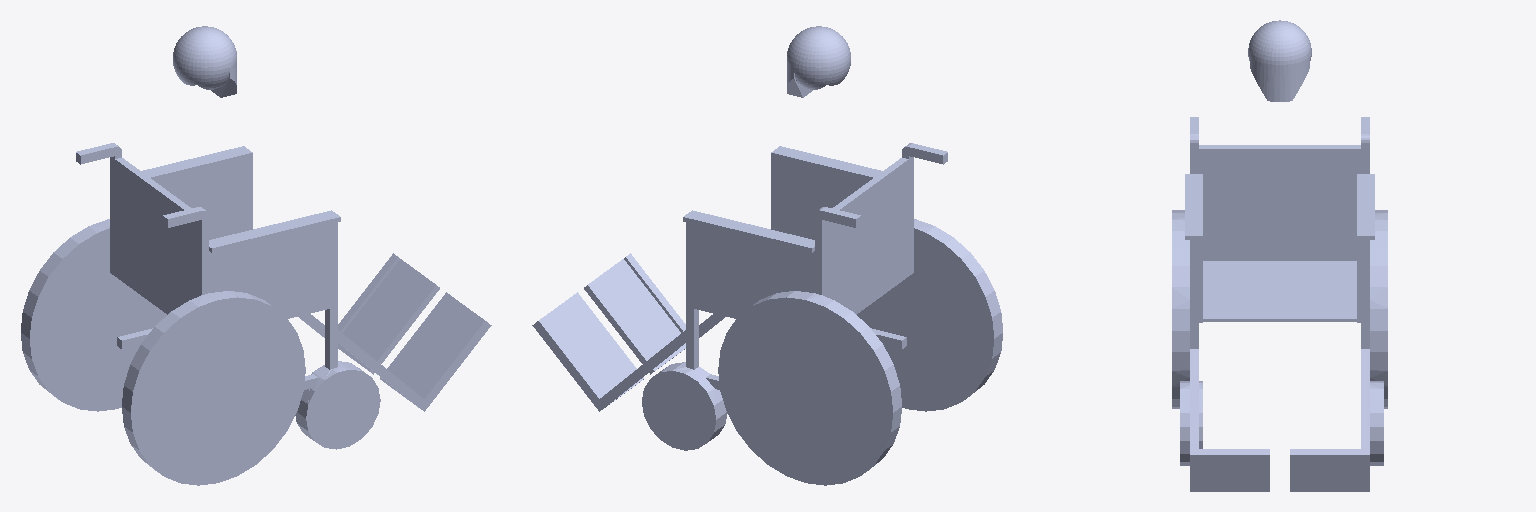
robot.urdf — wheelchair_and_body_assembly:
<robot
  name="wheelchair_and_body_assembly">
  <link
    name="base_link">
    <inertial>
      <origin
        xyz="0.46024 0.0005839 0.36704"
        rpy="0 0 0" />
      <mass
        value="63.649" />
      <inertia
        ixx="7.6415"
        ixy="0.010955"
        ixz="-0.8336"
        iyy="7.458"
        iyz="-0.0088095"
        izz="9.3029" />
    </inertial>
    <visual>
      <origin
        xyz="0 0 0"
        rpy="0 0 0" />
      <geometry>
        <mesh
          filename="package://hrl_base_selection/urdf/wheelchair_and_body_assembly/meshes/base_link.STL" />
      </geometry>
      <material
        name="">
        <color
          rgba="0.79216 0.81961 0.93333 1" />
      </material>
    </visual>
    <collision>
      <origin
        xyz="0 0 0"
        rpy="0 0 0" />
      <geometry>
        <mesh
          filename="package://hrl_base_selection/urdf/wheelchair_and_body_assembly/meshes/base_link.STL" />
      </geometry>
    </collision>
  </link>
  <link
    name="body_th_move_link">
    <inertial>
      <origin
        xyz="0.18305 -1.2796E-06 0.23201"
        rpy="0 0 0" />
      <mass
        value="55.001" />
      <inertia
        ixx="3.0819"
        ixy="5.9955E-06"
        ixz="-1.705"
        iyy="5.2603"
        iyz="-1.2806E-05"
        izz="3.7779" />
    </inertial>
  </link>
  <joint
    name="wheelchair_body_rotation_joint"
    type="revolute">
    <origin
      xyz="0.40278 0 0.47"
      rpy="0 0 0" />
    <parent
      link="base_link" />
    <child
      link="body_th_move_link" />
    <axis
      xyz="0 0 -1" />
    <limit
      lower="-1"
      upper="1"
      effort="0"
      velocity="0" />
  </joint>
  <link
    name="body_x_move_link">
    <inertial>
      <origin
        xyz="0.183048783561467 -1.27956259822018E-06 0.232006948172354"
        rpy="0 0 0" />
      <mass
        value="55.0007697502791" />
      <inertia
        ixx="3.08185658910265"
        ixy="5.99546569961251E-06"
        ixz="-1.70498227335547"
        iyy="5.26029069554681"
        iyz="-1.28061648714539E-05"
        izz="3.77789307592805" />
    </inertial>
  </link>
  <joint
    name="wheelchair_body_x_joint"
    type="prismatic">
    <origin
      xyz="0 0 0"
      rpy="0 0 0" />
    <parent
      link="body_th_move_link" />
    <child
      link="body_x_move_link" />
    <axis
      xyz="-1 0 0" />
    <limit
      lower="-1"
      upper="1"
      effort="0"
      velocity="0" />
  </joint>
  <link
    name="body_y_move_link">
    <inertial>
      <origin
        xyz="0.18305 -1.2796E-06 0.23201"
        rpy="0 0 0" />
      <mass
        value="55.001" />
      <inertia
        ixx="3.0819"
        ixy="5.9955E-06"
        ixz="-1.705"
        iyy="5.2603"
        iyz="-1.2806E-05"
        izz="3.7779" />
    </inertial>
    <visual>
      <origin
        xyz="0 0 0"
        rpy="0 0 0" />
      <geometry>
        <mesh
          filename="package://hrl_base_selection/urdf/wheelchair_and_body_assembly/meshes/body_y_move_link.STL" />
      </geometry>
      <material
        name="">
        <color
          rgba="0.79216 0.81961 0.93333 1" />
      </material>
    </visual>
    <collision>
      <origin
        xyz="0 0 0"
        rpy="0 0 0" />
      <geometry>
        <mesh
          filename="package://hrl_base_selection/urdf/wheelchair_and_body_assembly/meshes/body_y_move_link.STL" />
      </geometry>
    </collision>
  </link>
  <joint
    name="wheelchair_body_y_joint"
    type="prismatic">
    <origin
      xyz="0 0 0"
      rpy="0 0 0" />
    <parent
      link="body_x_move_link" />
    <child
      link="body_y_move_link" />
    <axis
      xyz="0 -1 0" />
    <limit
      lower="-1"
      upper="1"
      effort="0"
      velocity="0" />
  </joint>
  <link
    name="head_center">
    <inertial>
      <origin
        xyz="0.00931749480580107 -9.08739055739473E-09 0.010570689538842"
        rpy="0 0 0" />
      <mass
        value="3.93285195403502" />
      <inertia
        ixx="0.0165678835477896"
        ixy="1.68315764857987E-09"
        ixz="-0.00276827212446779"
        iyy="0.0177022968298913"
        iyz="-6.23554424236189E-09"
        izz="0.016604615159401" />
    </inertial>
    <visual>
      <origin
        xyz="0 0 0"
        rpy="0 0 0" />
      <geometry>
        <mesh
          filename="package://hrl_base_selection/urdf/wheelchair_and_body_assembly/meshes/head_center.STL" />
      </geometry>
      <material
        name="">
        <color
          rgba="0.792156862745098 0.819607843137255 0.933333333333333 1" />
      </material>
    </visual>
    <collision>
      <origin
        xyz="0 0 0"
        rpy="0 0 0" />
      <geometry>
        <mesh
          filename="package://hrl_base_selection/urdf/wheelchair_and_body_assembly/meshes/head_center.STL" />
      </geometry>
    </collision>
  </link>
  <joint
    name="head_neck_joint"
    type="revolute">
    <origin
      xyz="0.048166 0 0.76169"
      rpy="0 0 0" />
    <parent
      link="body_y_move_link" />
    <child
      link="head_center" />
    <axis
      xyz="0 -1 0" />
    <limit
      lower="-2"
      upper="2"
      effort="0"
      velocity="0" />
  </joint>
</robot>

--- Render facts (derived) ---
3 views of the same robot in one strip: view 1: azimuth 30°, elevation 25°; view 2: azimuth 150°, elevation 25°; view 3: azimuth 270°, elevation 25° (orthographic).
Model wheelchair_and_body_assembly with 5 links and 4 joints (2 revolute, 2 prismatic), rooted at base_link, posed every joint at zero.
Links seen in each view (by area): view 1: base_link, head_center; view 2: base_link, head_center; view 3: base_link, head_center.
Boxes of the visible links, x1,y1,x2,y2 form: base_link: (21, 143, 491, 485); head_center: (173, 26, 236, 97); base_link: (532, 143, 1002, 485); head_center: (787, 26, 850, 97); base_link: (1172, 117, 1387, 491); head_center: (1248, 20, 1311, 101).
Bounding box of the posed robot: 1.29 × 0.665 × 1.34 m (x, y, z).
Meshes: 3 distinct files referenced, 2 mesh visuals loaded (2 binary STL); not drawn: 1 (reference not matched to a file when rendering).